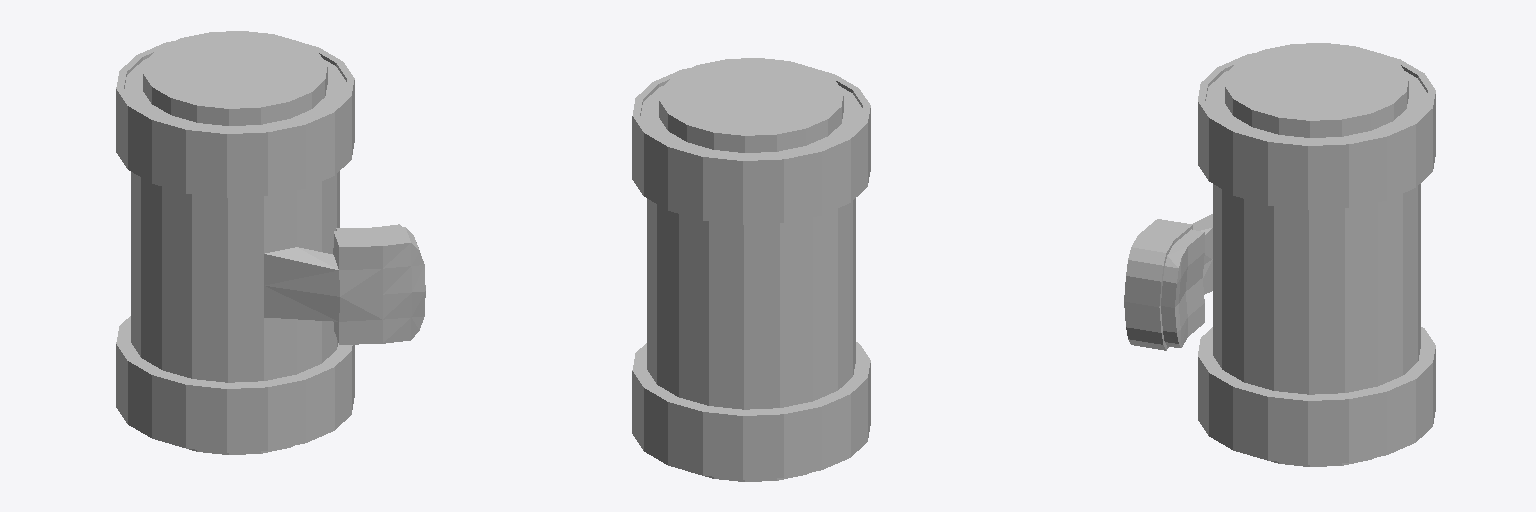
Rendered from RKneePitch_secondaryskin3.obj.
3 views of the same model, side by side, from view 1: azimuth 30°, elevation 25°; view 2: azimuth 150°, elevation 25°; view 3: azimuth 270°, elevation 25° (orthographic).
Bounding box in the file's own units: 0.064 × 0.1004 × 0.082.